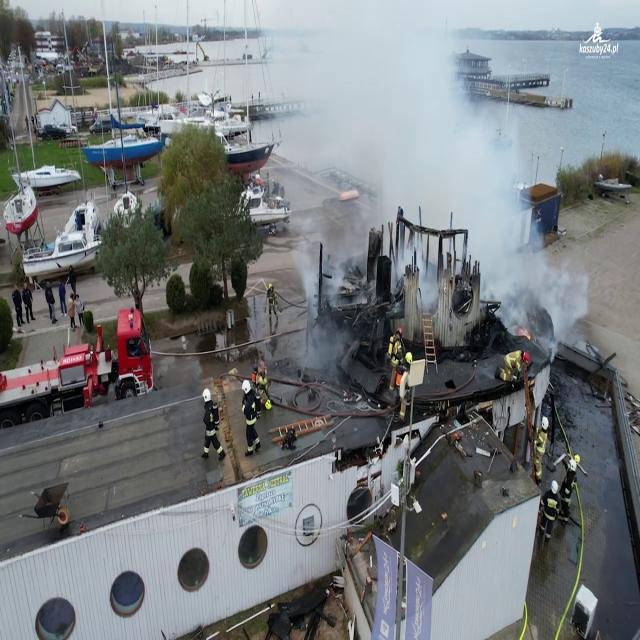Smoke: (274, 1, 566, 337)
